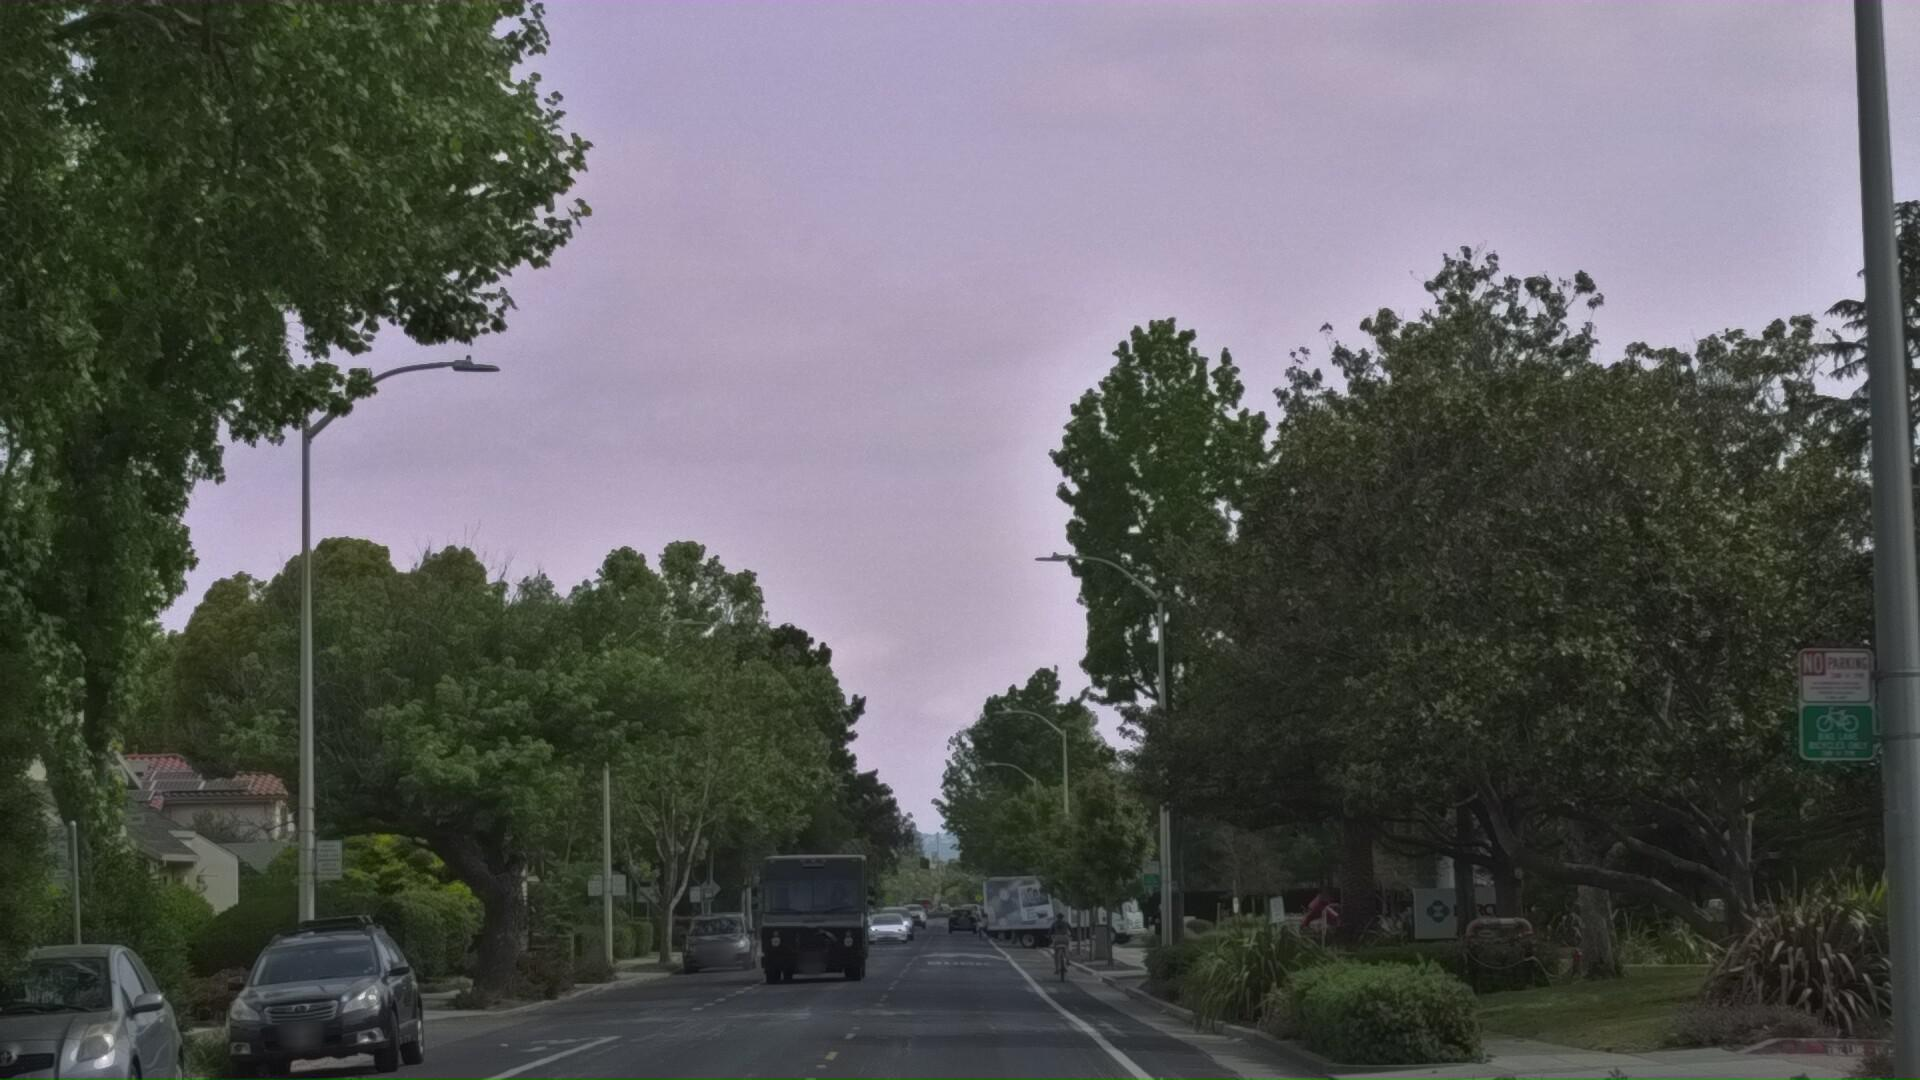bicycle: (1033, 1002, 1080, 1080)
car: (196, 1004, 450, 1080), (0, 1021, 196, 1080)
truck: (752, 942, 869, 1080)
